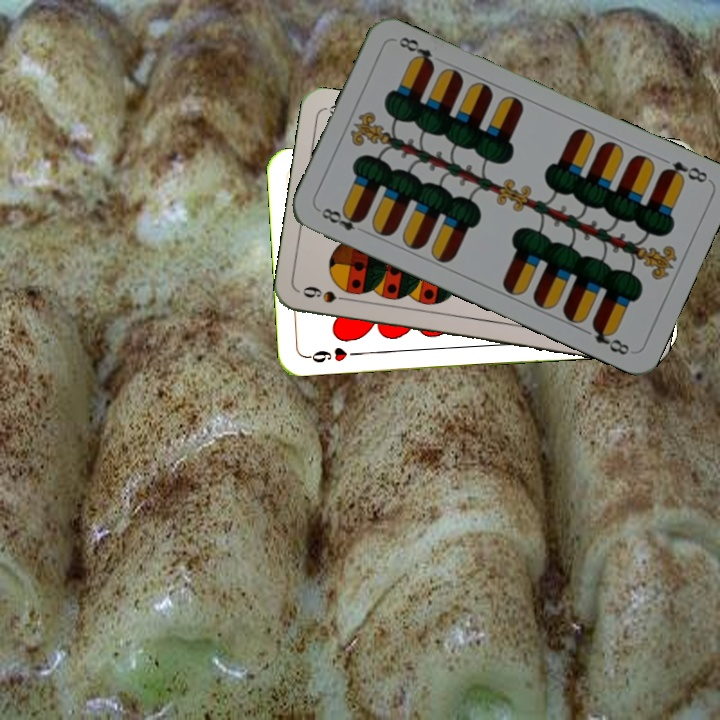E8: (314, 203, 366, 234), (657, 157, 710, 186)
H9: (302, 343, 362, 366)
S9: (298, 282, 357, 306)
